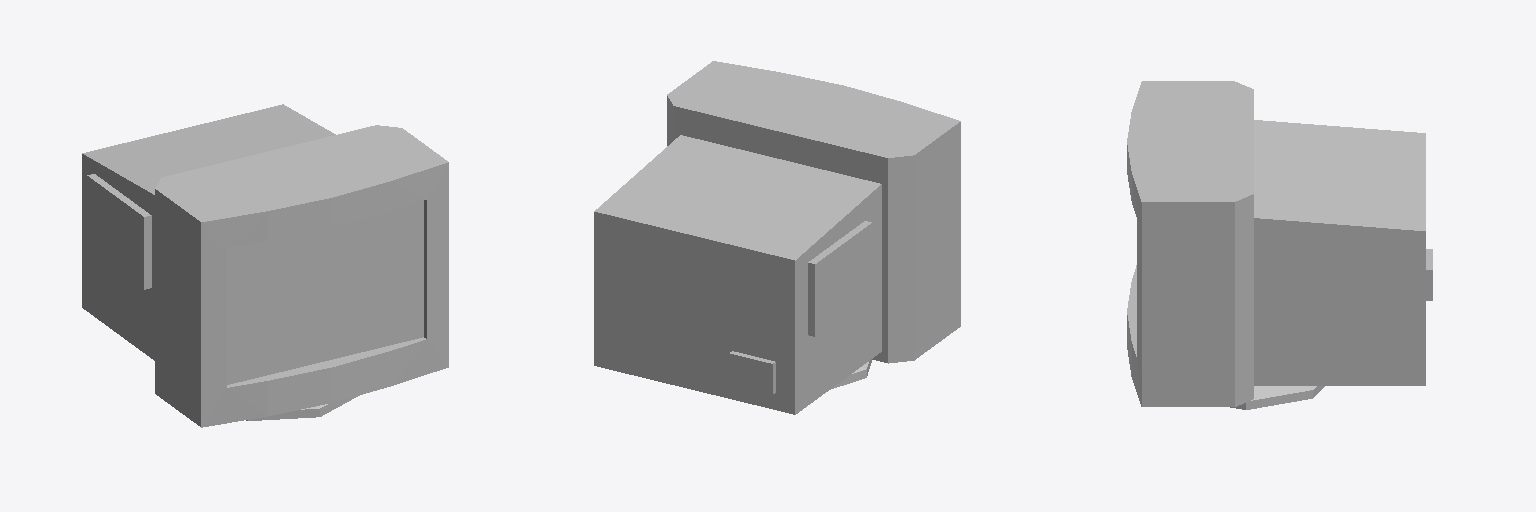
Rendered from crt_monitor.obj.
The picture shows the model from 3 angles: view 1: azimuth 30°, elevation 25°; view 2: azimuth 150°, elevation 25°; view 3: azimuth 270°, elevation 25°; orthographic projection.
Visible parts, largest first — view 1: CRTMonitor; view 2: CRTMonitor; view 3: CRTMonitor.
Part boxes in pixels (left/top/right/bottom): CRTMonitor: left=82, top=104, right=448, bottom=427; CRTMonitor: left=594, top=61, right=960, bottom=414; CRTMonitor: left=1127, top=81, right=1432, bottom=409.
Bounding box in the file's own units: 0.5917 × 0.5222 × 0.6336.